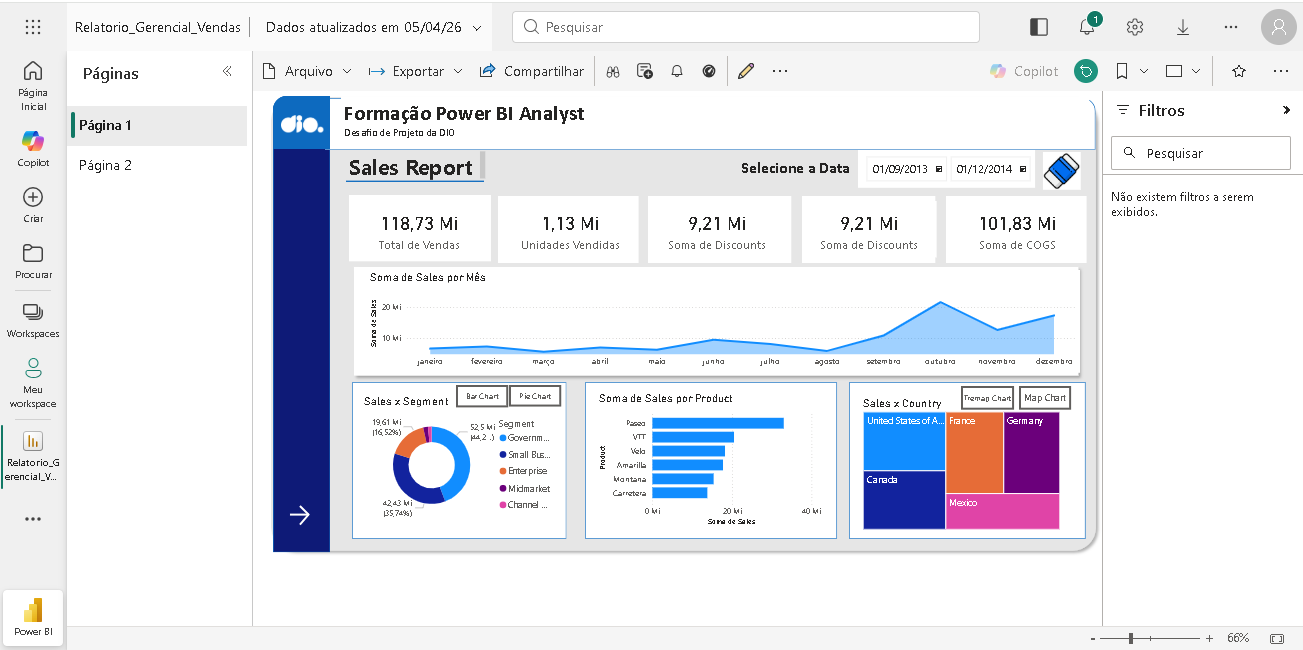

Layout of this report page (visuals, bound fields, positions):
{"tool":"powerbi","page":{"name":"Página 1","canvas":[1280,720],"ordinal":0},"visuals":[{"type":"shape","box":[18.3,0,1261.7,702.2],"z":0},{"type":"shape","box":[143.9,156.7,214.2,100.4],"z":0,"group":"g1"},{"type":"clusteredBarChart","title":"Sales x Segment","fields":{"Y":["Sum(financials. Sales)"],"Category":["financials.Segment"]},"box":[161.7,459.1,300,195.8],"z":0,"group":"g3"},{"type":"shape","box":[369.4,157.7,212.3,101.1],"z":1000,"group":"g1"},{"type":"donutChart","title":"Sales x Segment","fields":{"Category":["financials.Segment"],"Y":["Sum(financials. Sales)"]},"box":[163.7,456.6,300,195.8],"z":1000,"group":"g3"},{"type":"actionButton","title":"Botão - Bar","box":[305.9,444.1,78.8,33.8],"z":1250,"group":"g3"},{"type":"actionButton","title":"Botão - Pie","box":[385.9,443.5,78.8,32.5],"z":1500,"group":"g3"},{"type":"shape","box":[30,8,86,688],"z":2000},{"type":"shape","box":[594.6,157.7,216,101.1],"z":2000,"group":"g1"},{"type":"map","title":"Sales x Country","fields":{"Size":["Sum(financials. Sales)"],"Category":["financials.Country"]},"box":[915.7,458.5,301.7,206.6],"z":2242,"group":"g2"},{"type":"actionButton","title":"Botão - Tremap","box":[1067.5,444.8,80,35.7],"z":2500,"group":"g2"},{"type":"shape","box":[108.3,10,1161.7,78.3],"z":3000},{"type":"shape","box":[827,157.7,201.4,101.1],"z":3000,"group":"g1"},{"type":"actionButton","title":"Botão - Map","box":[1156.1,445.5,78.6,35.7],"z":3000,"group":"g2"},{"type":"shape","box":[30,8,86,80],"z":3500},{"type":"textbox","box":[133.3,8.3,1128.3,78.3],"z":4000},{"type":"shape","box":[1044.9,157.7,212.3,101.1],"z":4000,"group":"g1"},{"type":"group","id":"g1","title":"Cartôes","box":[140,123.3,1116.7,135],"z":5000},{"type":"card","fields":{"Values":["Sum(financials.Units Sold)"]},"box":[377.2,165.5,203.3,85],"z":5000,"group":"g1"},{"type":"textbox","box":[140,86.7,215,53.3],"z":6000},{"type":"card","fields":{"Values":["Sum(financials. Sales)"]},"box":[148.9,165.5,203.3,85],"z":6000,"group":"g1"},{"type":"card","fields":{"Values":["Sum(financials.Discounts)"]},"box":[827.2,165.5,203.3,85],"z":7000,"group":"g1"},{"type":"shape","box":[143.3,256.7,1110,181.7],"z":7000},{"type":"card","fields":{"Values":["Sum(financials.COGS)"]},"box":[1050.6,165.5,203.3,85],"z":8000,"group":"g1"},{"type":"shape","box":[150,438.3,323.3,236.7],"z":8000},{"type":"card","fields":{"Values":["Sum(financials.Discounts)"]},"box":[598.9,165.5,203.3,85],"z":9000,"group":"g1"},{"type":"shape","box":[898.3,438.3,356.7,236.7],"z":9000},{"type":"shape","box":[140,123.3,208.3,25],"z":10000,"group":"g1"},{"type":"shape","box":[500,438.3,380,236.7],"z":10000},{"type":"areaChart","fields":{"Category":["financials.Date.Variation.Hierarquia de datas.Mês"],"Y":["Sum(financials. Sales)"]},"box":[171.7,270,1075,155],"z":11000},{"type":"clusteredBarChart","fields":{"Y":["Sum(financials. Sales)"],"Category":["financials.Product"]},"box":[517.5,452.5,345,207.5],"z":12000},{"type":"slicer","fields":{"Values":["financials.Date"]},"box":[911.7,88.3,266.7,56.7],"z":13000},{"type":"textbox","box":[731.7,95,180,43.3],"z":14000},{"type":"group","id":"g2","title":"Sales x país","box":[915.7,444.8,319,220.4],"z":15000},{"type":"group","id":"g3","title":"Sales x Segment","box":[161.7,443.5,302.9,211.5],"z":16000},{"type":"actionButton","box":[50,620,48,40],"z":17000},{"type":"image","box":[42,10,64,78],"z":18000},{"type":"image","box":[1181.7,91.7,75,56.7],"z":19000},{"type":"actionButton","box":[1181.7,91.7,71.7,56.7],"z":20000}]}

Visuals, with their boxes on the page's 1280x720 design canvas (x1, y1, x2, y2). These are canvas units, not pixel positions in the 1303x650 screenshot, which may show the page scaled, cropped or inside an application window:
shape: x1=18 y1=0 x2=1280 y2=702
shape: x1=144 y1=157 x2=358 y2=257
"Sales x Segment" clusteredBarChart: x1=162 y1=459 x2=462 y2=655
shape: x1=369 y1=158 x2=582 y2=259
"Sales x Segment" donutChart: x1=164 y1=457 x2=464 y2=652
"Botão - Bar" actionButton: x1=306 y1=444 x2=385 y2=478
"Botão - Pie" actionButton: x1=386 y1=444 x2=465 y2=476
shape: x1=30 y1=8 x2=116 y2=696
shape: x1=595 y1=158 x2=811 y2=259
"Sales x Country" map: x1=916 y1=458 x2=1217 y2=665
"Botão - Tremap" actionButton: x1=1068 y1=445 x2=1148 y2=480
shape: x1=108 y1=10 x2=1270 y2=88
shape: x1=827 y1=158 x2=1028 y2=259
"Botão - Map" actionButton: x1=1156 y1=446 x2=1235 y2=481
shape: x1=30 y1=8 x2=116 y2=88
textbox: x1=133 y1=8 x2=1262 y2=87
shape: x1=1045 y1=158 x2=1257 y2=259
"Cartôes" group: x1=140 y1=123 x2=1257 y2=258
card - Sum(financials.Units Sold): x1=377 y1=166 x2=580 y2=250
textbox: x1=140 y1=87 x2=355 y2=140
card - Sum(financials. Sales): x1=149 y1=166 x2=352 y2=250
card - Sum(financials.Discounts): x1=827 y1=166 x2=1030 y2=250
shape: x1=143 y1=257 x2=1253 y2=438
card - Sum(financials.COGS): x1=1051 y1=166 x2=1254 y2=250
shape: x1=150 y1=438 x2=473 y2=675
card - Sum(financials.Discounts): x1=599 y1=166 x2=802 y2=250
shape: x1=898 y1=438 x2=1255 y2=675
shape: x1=140 y1=123 x2=348 y2=148
shape: x1=500 y1=438 x2=880 y2=675
areaChart - financials.Date.Variation.Hierarquia de datas.Mês x Sum(financials. Sales): x1=172 y1=270 x2=1247 y2=425
clusteredBarChart - Sum(financials. Sales) x financials.Product: x1=518 y1=452 x2=862 y2=660
slicer - financials.Date: x1=912 y1=88 x2=1178 y2=145
textbox: x1=732 y1=95 x2=912 y2=138
"Sales x país" group: x1=916 y1=445 x2=1235 y2=665
"Sales x Segment" group: x1=162 y1=444 x2=465 y2=655
actionButton: x1=50 y1=620 x2=98 y2=660
image: x1=42 y1=10 x2=106 y2=88
image: x1=1182 y1=92 x2=1257 y2=148
actionButton: x1=1182 y1=92 x2=1253 y2=148
